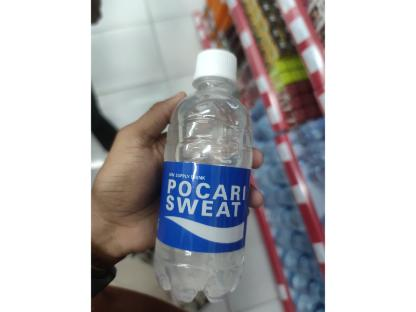Plastic Bottle: (154, 49, 254, 303)
